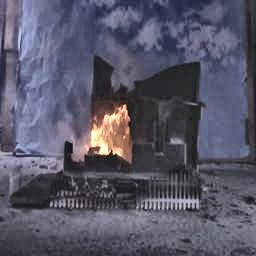fire: (87, 96, 141, 161)
